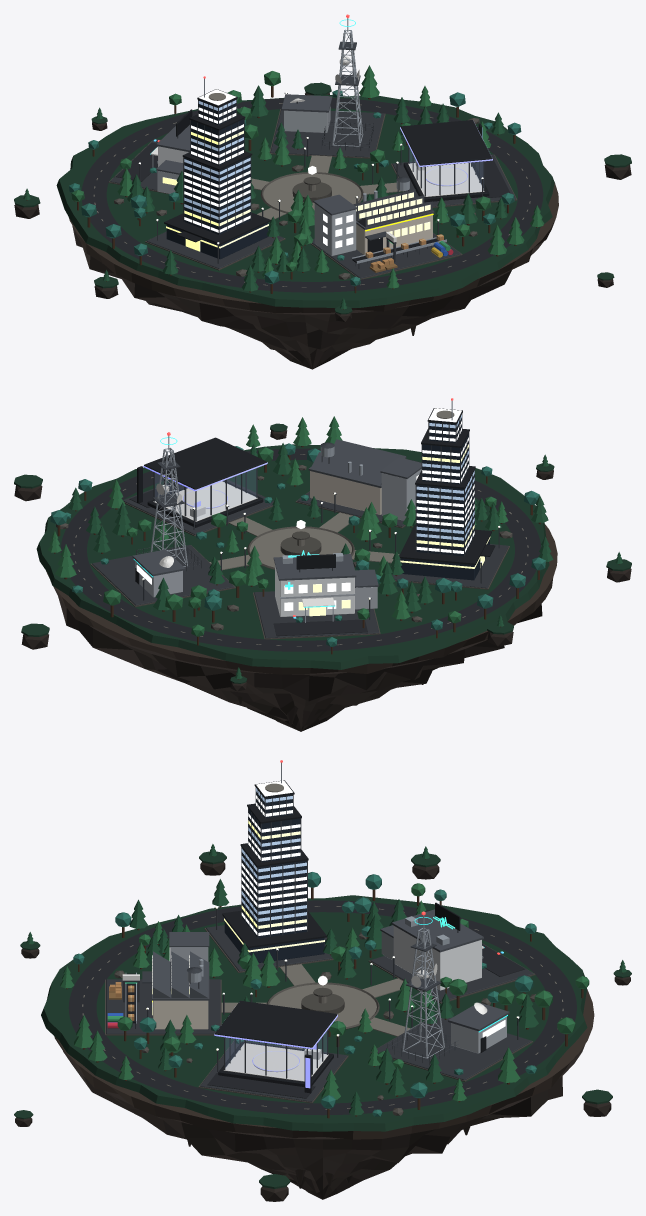
File: city.glb
3 renders of one model, top to bottom at view 1: azimuth 30°, elevation 25°; view 2: azimuth 150°, elevation 25°; view 3: azimuth 270°, elevation 25°, orthographic. The views are drawn at different scales.
Parts seen in each view (by area): view 1: ISLAND_static, B_ladders_static, B_erp_static, B_motoriq_static, B_pravak_static, B_medbot_static, miq_glass, miq_turntable, rock_float_0, rock_float_3, rock_float_4; view 2: ISLAND_static, B_ladders_static, B_medbot_static, B_motoriq_static, B_erp_static, B_pravak_static, miq_glass, rock_float_0, rock_float_1, miq_turntable, rock_float_3, rock_float_4; view 3: ISLAND_static, B_ladders_static, B_motoriq_static, B_pravak_static, B_erp_static, B_medbot_static, miq_glass, miq_turntable, rock_float_0, rock_float_1, rock_float_3.
Part boxes in pixels (bbox=[...]): ISLAND_static: bbox=[56, 65, 558, 369]; B_ladders_static: bbox=[145, 78, 285, 270]; B_erp_static: bbox=[310, 176, 462, 279]; B_motoriq_static: bbox=[391, 120, 517, 207]; B_pravak_static: bbox=[269, 18, 385, 158]; B_medbot_static: bbox=[108, 109, 192, 194]; miq_glass: bbox=[409, 148, 483, 195]; miq_turntable: bbox=[426, 167, 468, 186]; rock_float_0: bbox=[604, 154, 631, 179]; rock_float_3: bbox=[14, 188, 40, 218]; rock_float_4: bbox=[94, 270, 118, 298]; ISLAND_static: bbox=[36, 416, 557, 731]; B_ladders_static: bbox=[390, 400, 509, 589]; B_medbot_static: bbox=[253, 553, 380, 639]; B_motoriq_static: bbox=[123, 437, 273, 536]; B_erp_static: bbox=[295, 439, 421, 528]; B_pravak_static: bbox=[90, 435, 235, 607]; miq_glass: bbox=[155, 469, 256, 519]; rock_float_0: bbox=[14, 474, 42, 501]; rock_float_1: bbox=[21, 623, 49, 649]; miq_turntable: bbox=[183, 489, 227, 508]; rock_float_3: bbox=[487, 615, 513, 646]; rock_float_4: bbox=[606, 552, 631, 582]; ISLAND_static: bbox=[41, 872, 594, 1199]; B_ladders_static: bbox=[204, 762, 336, 972]; B_motoriq_static: bbox=[198, 1000, 348, 1103]; B_pravak_static: bbox=[370, 915, 533, 1081]; B_erp_static: bbox=[105, 932, 221, 1035]; B_medbot_static: bbox=[368, 902, 535, 1003]; miq_glass: bbox=[225, 1031, 326, 1079]; miq_turntable: bbox=[252, 1051, 299, 1072]; rock_float_0: bbox=[259, 1174, 290, 1201]; rock_float_1: bbox=[582, 1089, 612, 1116]; rock_float_3: bbox=[411, 846, 440, 879].
Bounding box in the file's own units: 41.26 × 23.66 × 35.63.
